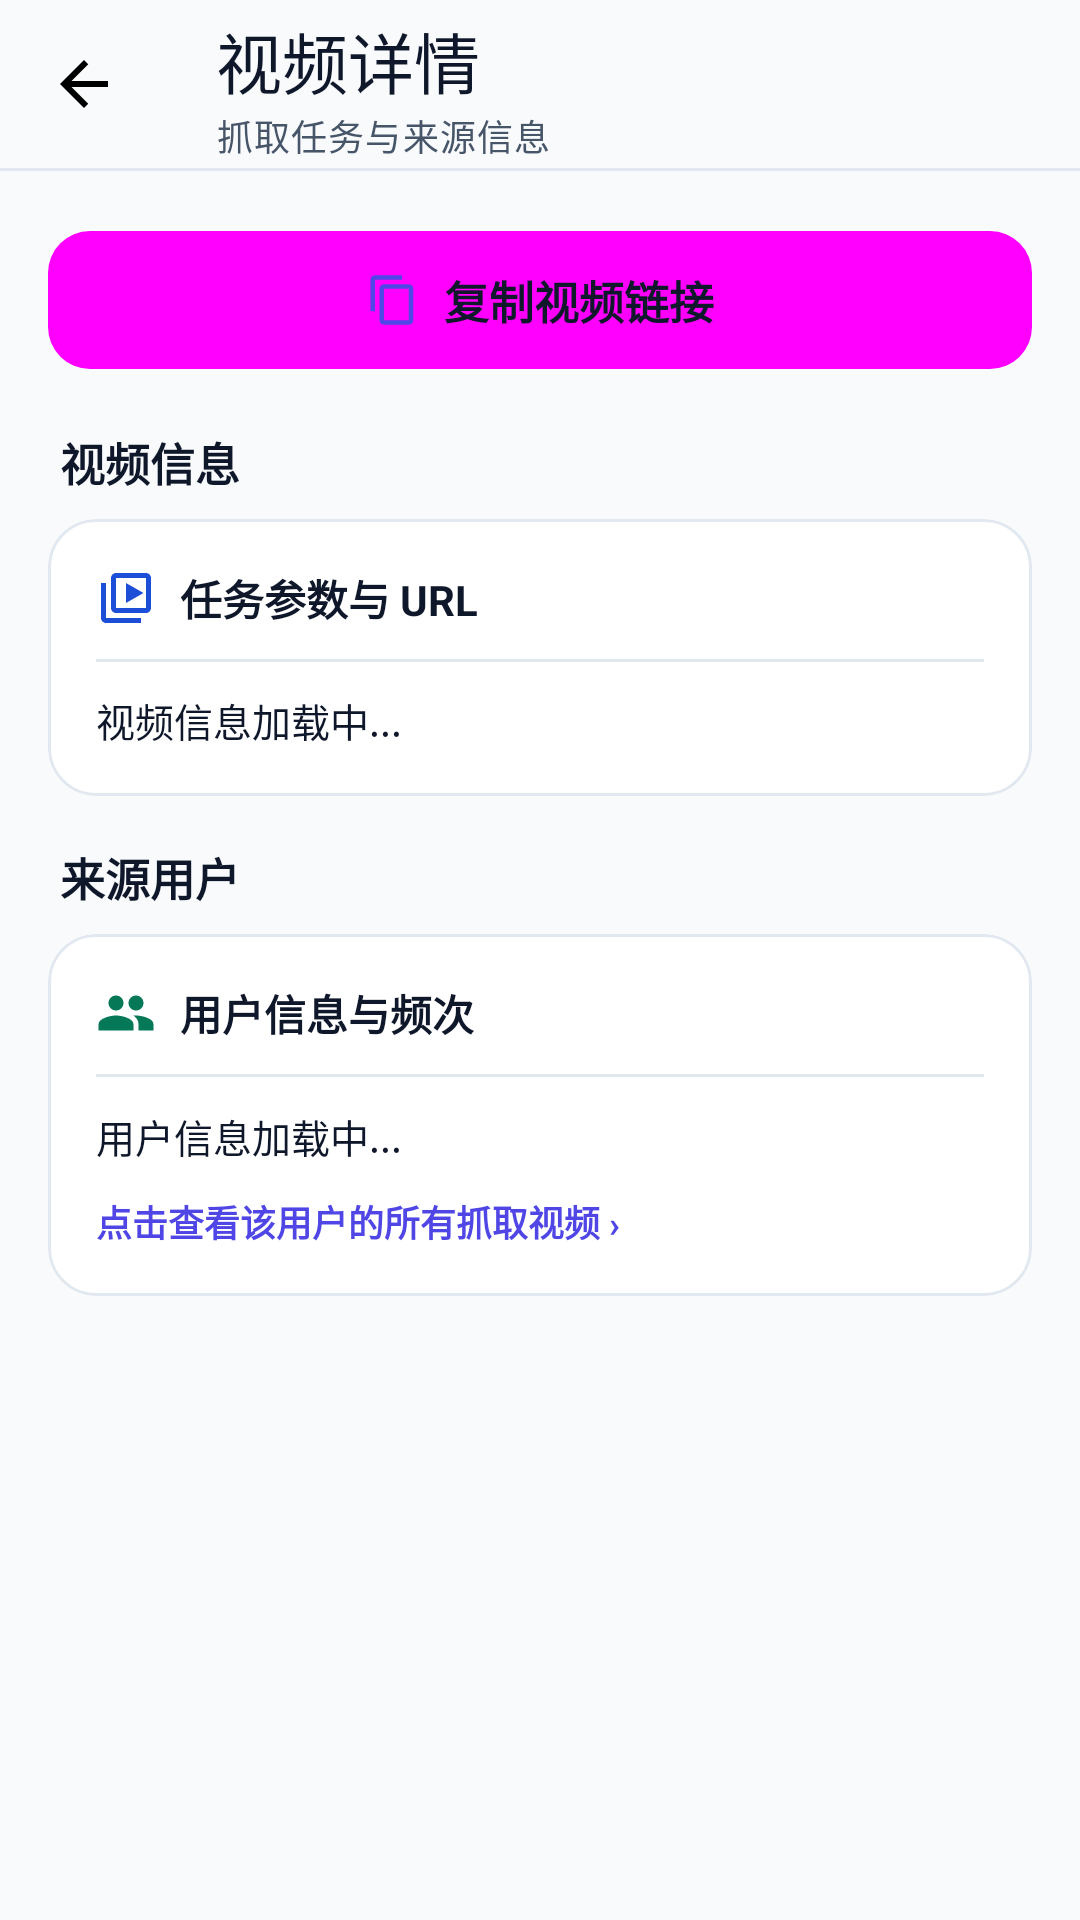

Icon bounding boxes for this 1080px×1920px phone screenshot, format rect(x1, y1, x2, y2):
people: rect(98, 995, 154, 1031)
video library: rect(101, 573, 151, 623)
